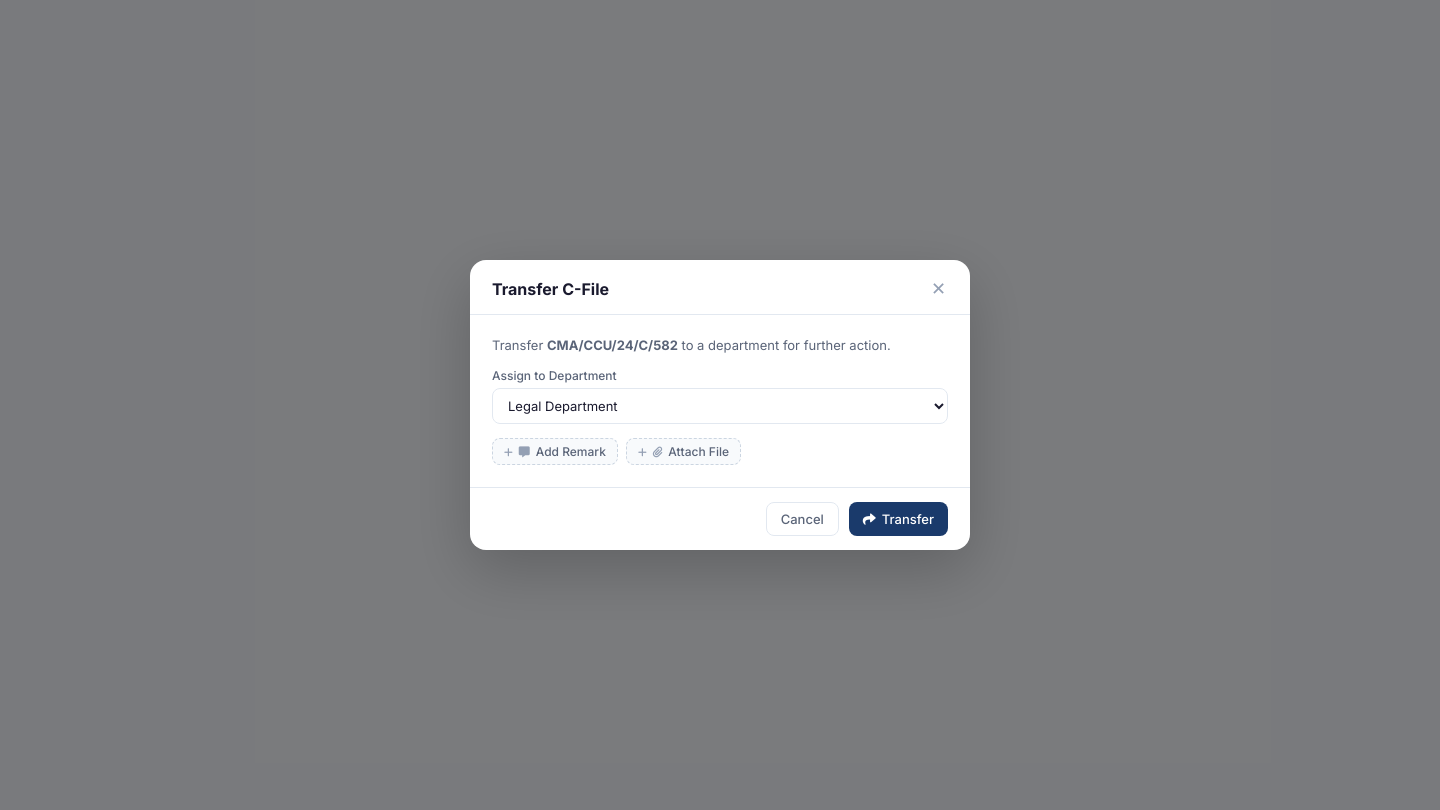
it: C-File TransferModal optional remark and file attachment › hides remark and file browse controls by default and reveals them only when toggled
The image size is (1440, 810).
Expected: the text "Transfer C-File" is shown, [492,279,609,299]
Expected: the field labelled "Remark (Optional)" is not shown
Note: Expand remark only
Click the button "Add Remark": (555, 452) [492,438,618,465]
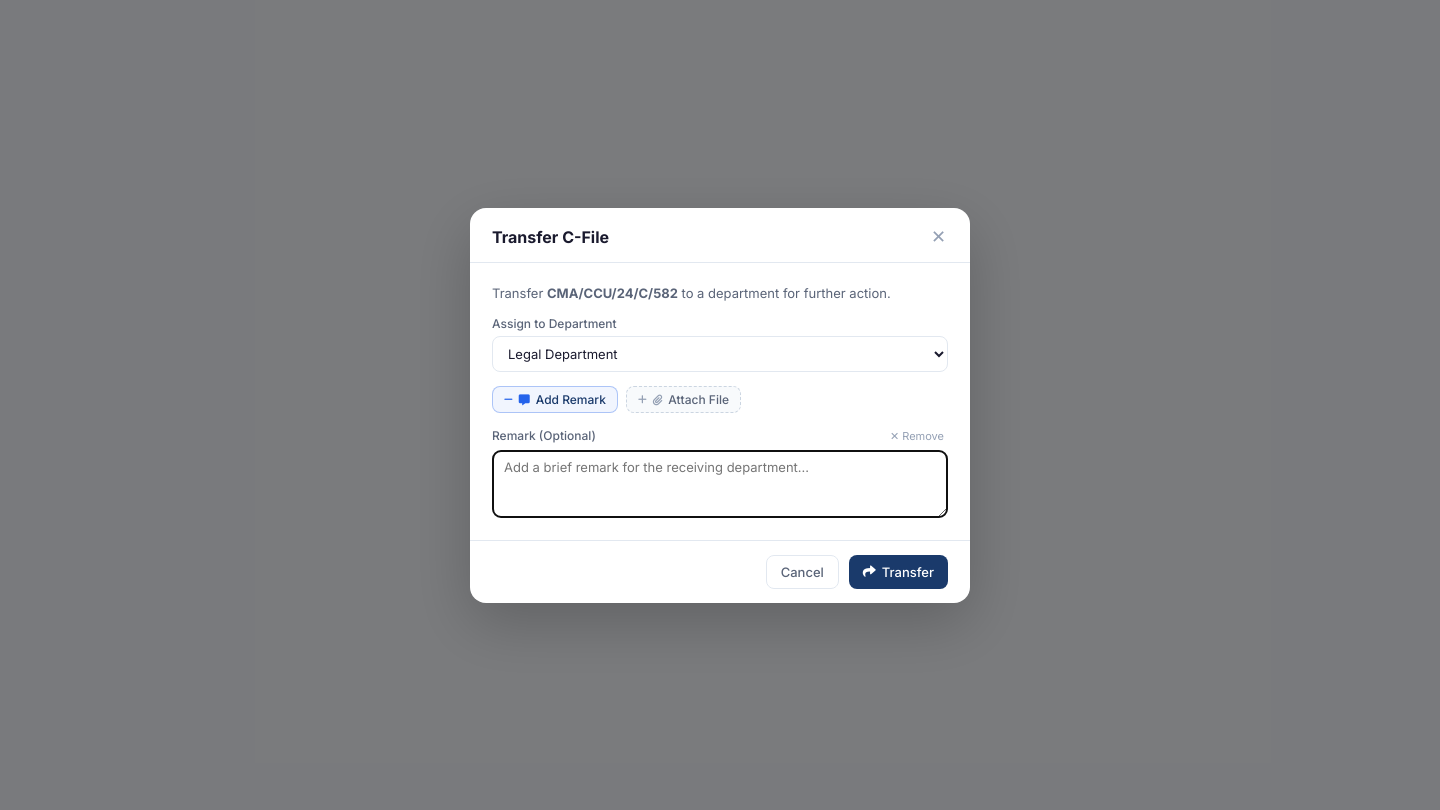
Expected: the button "Browse File" is not shown
Result: the text box labelled "Remark (Optional)" is shown at [492,450,948,518]
Note: Expand attachment too
Click the button "Attach File": (683, 399) [626,386,741,412]
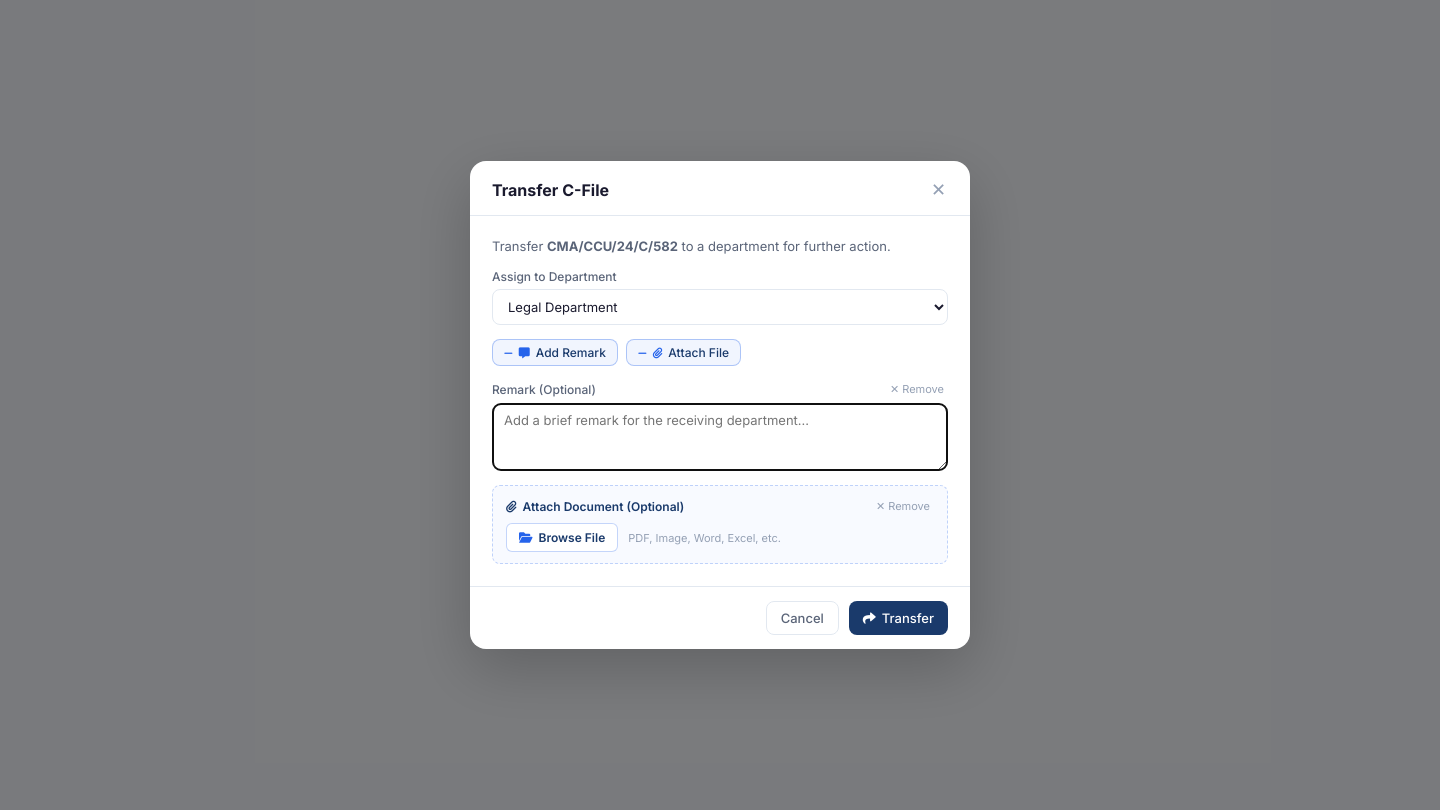
Result: the button "Browse File" is shown at [506,523,618,552]
Note: Remove remark clears and hides it
In the text box labelled "Remark (Optional)": (720, 437) [492,403,948,471], type "Check deed"
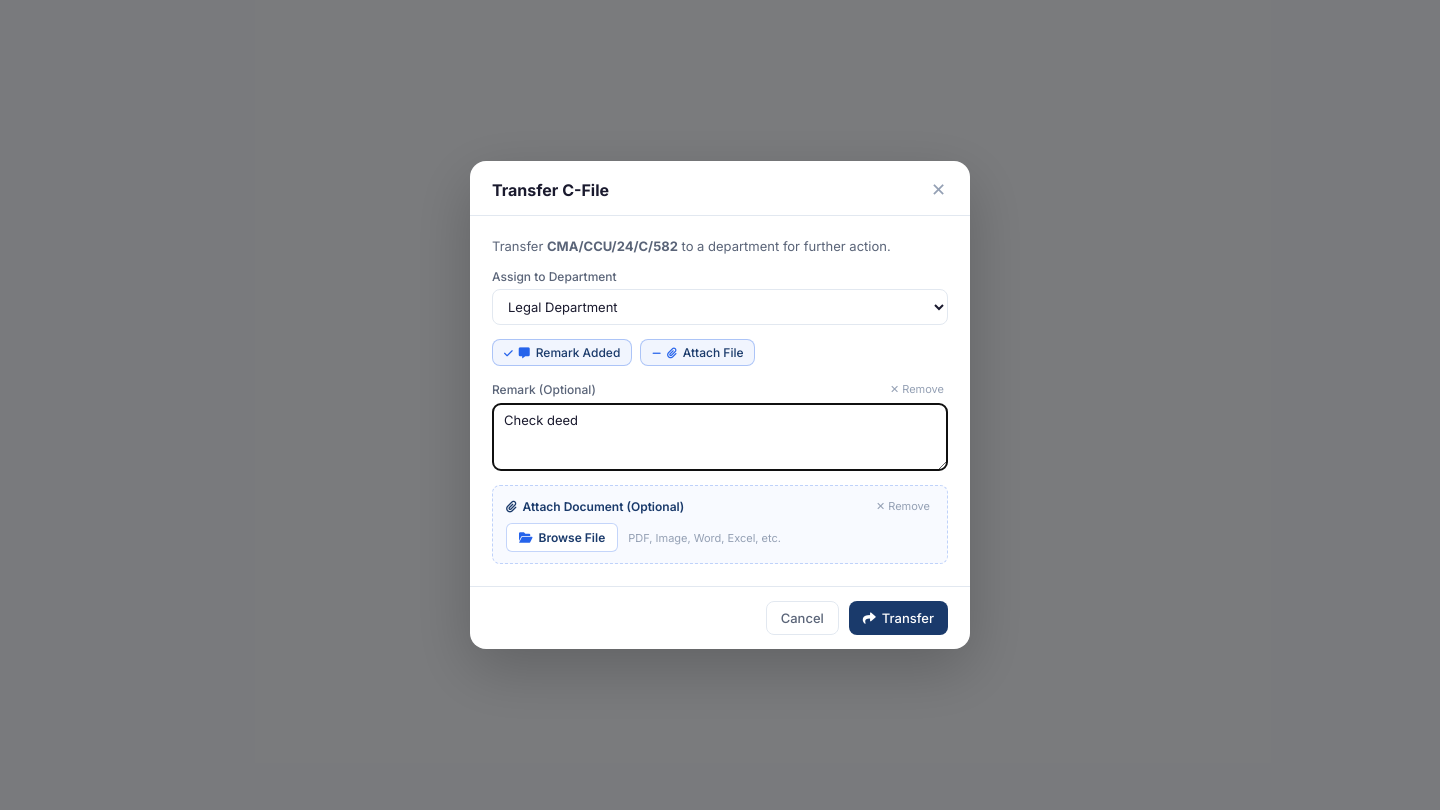
Click the button titled "Remove remark" in the row of "Remark (Optional)": (917, 389) [886,380,948,398]
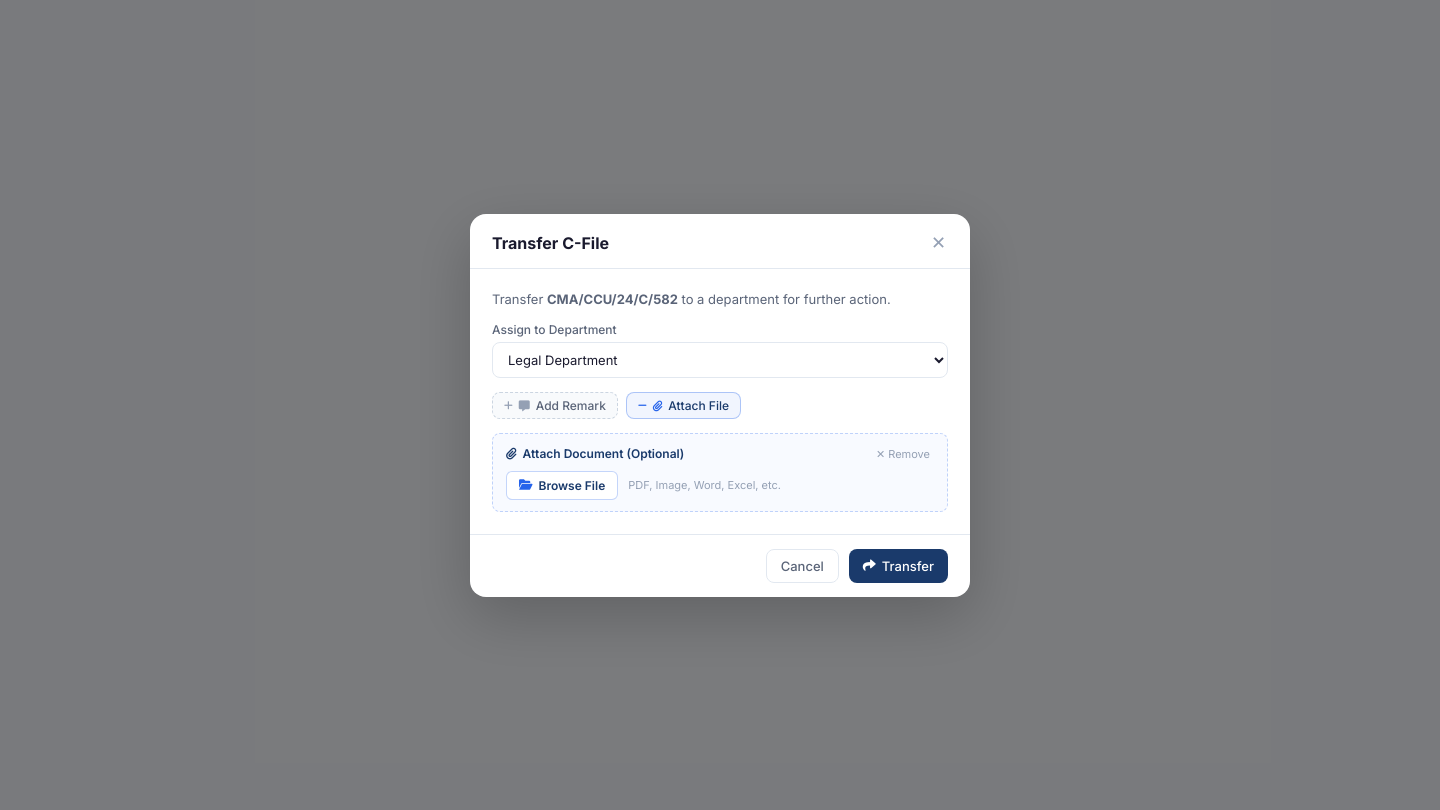
Result: the label labelled "Remark (Optional)" is gone
